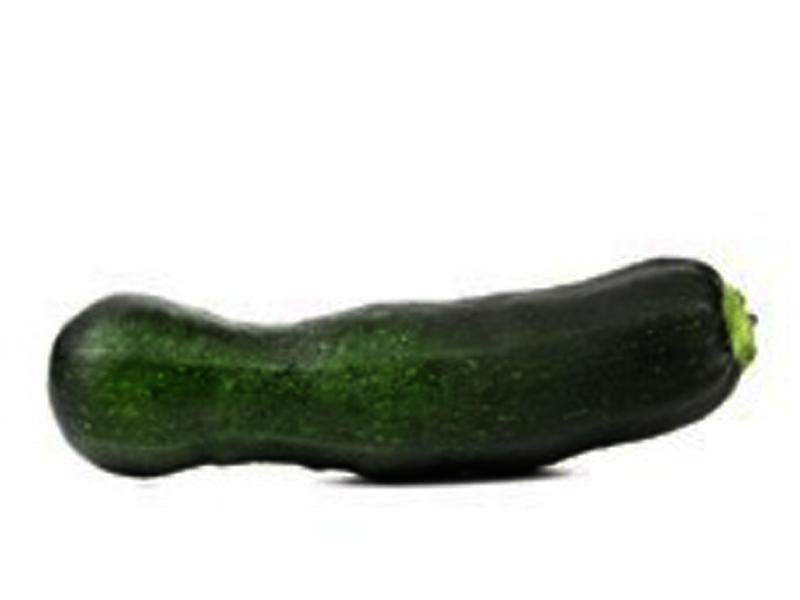Cucumber: (49, 256, 758, 478)
